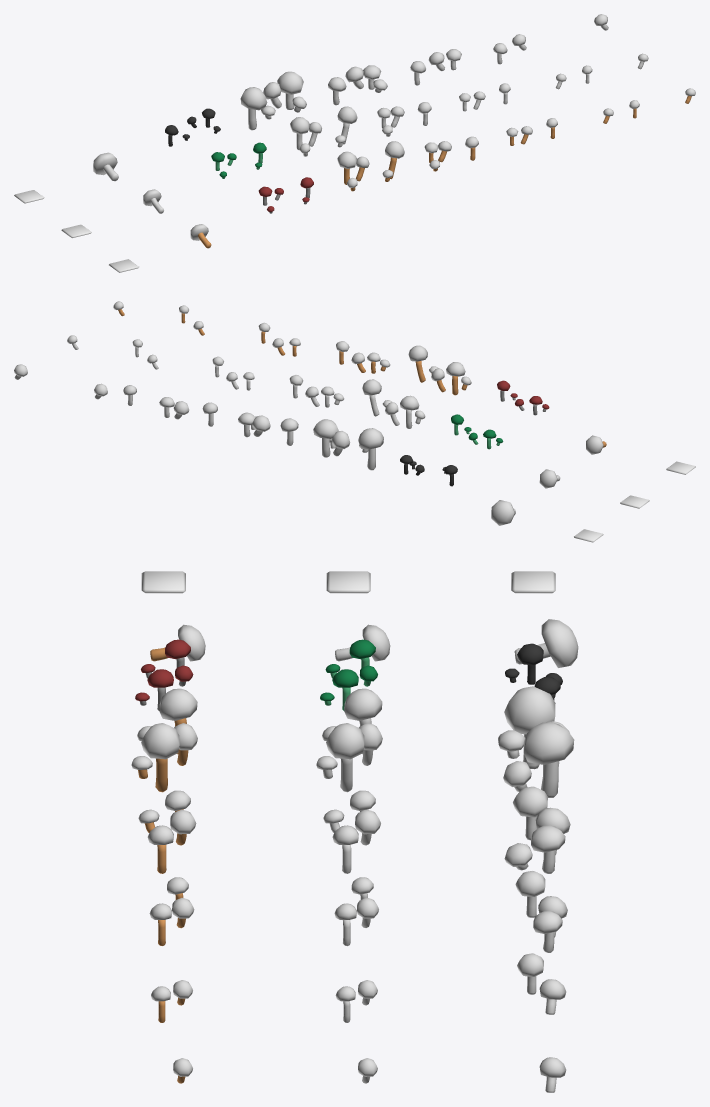
Rendered from GlowshroomPlants.fbx.
The picture shows the model from 3 angles, top to bottom: view 1: azimuth 30°, elevation 25°; view 2: azimuth 150°, elevation 25°; view 3: azimuth 270°, elevation 25°; orthographic projection. The views are drawn at different scales.
Parts seen in each view (by area): view 1: ShadowshroomHarvest, GlowshroomHarvest, GlowcapHarvest, ShadowshroomStage4, ShadowshroomStage3, GlowcapStage4, GlowshroomStage4, Shadowshroom, ShadowshroomDead, GlowshroomDead, GlowcapDead, GlowshroomStage3 (+1 smaller); view 2: ShadowshroomHarvest, GlowcapHarvest, GlowshroomHarvest, ShadowshroomStage4, GlowshroomStage4, GlowcapStage4, ShadowshroomStage3, Shadowshroom, GlowcapDead, GlowshroomDead, ShadowshroomDead, GlowcapStage3 (+1 smaller); view 3: ShadowshroomHarvest, GlowshroomHarvest, GlowcapHarvest, ShadowshroomStage4, GlowcapStage4, GlowshroomStage4, ShadowshroomStage3, GlowshroomDead, GlowcapDead, Shadowshroom, GlowshroomStage3, GlowcapStage3 (+8 smaller).
Boxes of the visible parts, left/top/right/bottom form: ShadowshroomHarvest: left=240, top=71, right=306, bottom=130; GlowshroomHarvest: left=290, top=106, right=357, bottom=156; GlowcapHarvest: left=337, top=141, right=404, bottom=191; ShadowshroomStage4: left=328, top=65, right=387, bottom=105; ShadowshroomStage3: left=410, top=49, right=461, bottom=85; GlowcapStage4: left=424, top=136, right=478, bottom=171; GlowshroomStage4: left=377, top=102, right=431, bottom=136; Shadowshroom: left=93, top=152, right=118, bottom=181; ShadowshroomDead: left=165, top=108, right=220, bottom=146; GlowshroomDead: left=211, top=142, right=266, bottom=178; GlowcapDead: left=258, top=177, right=313, bottom=213; GlowshroomStage3: left=459, top=83, right=510, bottom=111; ShadowshroomHarvest: left=313, top=419, right=383, bottom=470; GlowcapHarvest: left=408, top=345, right=471, bottom=395; GlowshroomHarvest: left=362, top=379, right=425, bottom=428; ShadowshroomStage4: left=238, top=412, right=298, bottom=445; GlowshroomStage4: left=289, top=375, right=344, bottom=407; GlowcapStage4: left=336, top=341, right=390, bottom=373; ShadowshroomStage3: left=159, top=397, right=217, bottom=426; Shadowshroom: left=491, top=500, right=515, bottom=525; GlowcapDead: left=497, top=380, right=549, bottom=415; GlowshroomDead: left=451, top=414, right=503, bottom=449; ShadowshroomDead: left=400, top=455, right=457, bottom=486; GlowcapStage3: left=258, top=322, right=300, bottom=356; ShadowshroomHarvest: left=498, top=686, right=574, bottom=797; GlowshroomHarvest: left=316, top=688, right=382, bottom=792; GlowcapHarvest: left=131, top=688, right=197, bottom=792; ShadowshroomStage4: left=504, top=786, right=570, bottom=873; GlowcapStage4: left=138, top=790, right=196, bottom=873; GlowshroomStage4: left=323, top=790, right=380, bottom=873; ShadowshroomStage3: left=515, top=871, right=567, bottom=952; GlowshroomDead: left=320, top=639, right=377, bottom=710; GlowcapDead: left=135, top=639, right=193, bottom=711; Shadowshroom: left=514, top=619, right=578, bottom=667; GlowshroomStage3: left=334, top=877, right=378, bottom=946; GlowcapStage3: left=149, top=877, right=194, bottom=945.
Size of the model in its own units: 7.24 by 0.7268 by 2.42.
